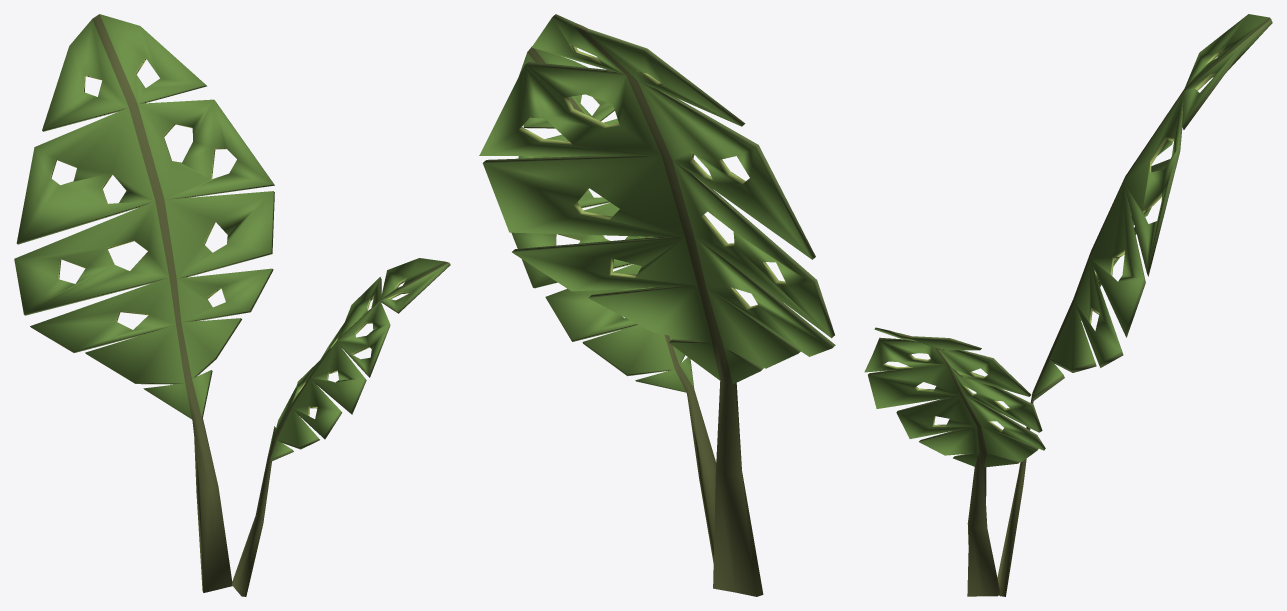
File: JunglePlant_03.glb
3 renders of one model, left to right at view 1: azimuth 30°, elevation 25°; view 2: azimuth 150°, elevation 25°; view 3: azimuth 270°, elevation 25°, orthographic. The views are drawn at different scales.
Visible parts, largest first — view 1: JunglePlant_03; view 2: JunglePlant_03; view 3: JunglePlant_03.
Part boxes in pixels (bbox=[...]): JunglePlant_03: bbox=[14, 14, 450, 596]; JunglePlant_03: bbox=[479, 14, 835, 596]; JunglePlant_03: bbox=[864, 14, 1272, 596].
Bounding box in the file's own units: 1.17 × 1.71 × 1.12.
Materials: 1 (1 with a texture image).
